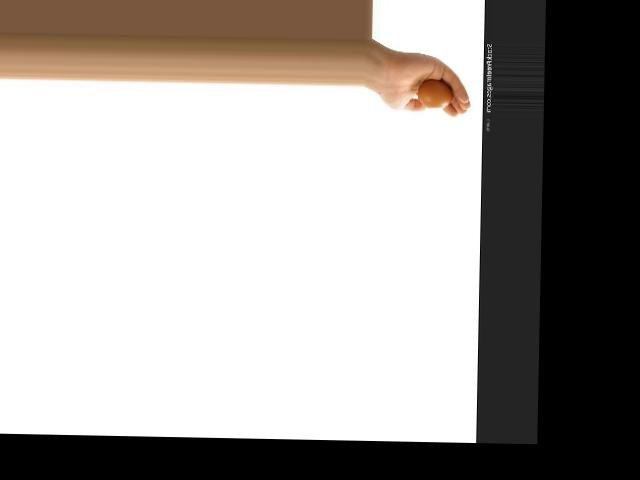egg: (417, 80, 454, 108)
